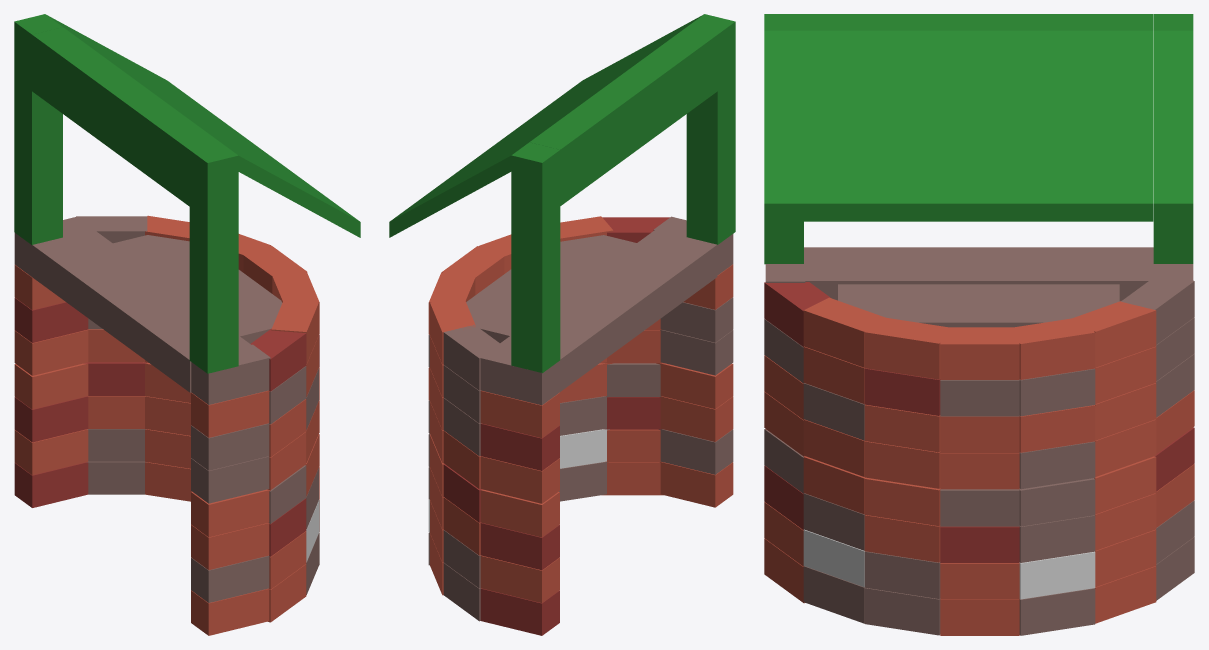
Rendered from Shop2.fbx.
The picture shows the model from 3 angles, left to right: view 1: azimuth 30°, elevation 25°; view 2: azimuth 150°, elevation 25°; view 3: azimuth 270°, elevation 25°; orthographic projection. The views are drawn at different scales.
Parts seen in each view (by area): view 1: Cube.109, Cube.107, Cube.108, Cube.106, Cube.052, Cube.070, Cube.016, Cube.061, Cube.007, Cube.043, Cube.097, Cube.053 (+29 smaller); view 2: Cube.109, Cube.107, Cube.108, Cube.053, Cube.071, Cube.017, Cube.062, Cube.098, Cube.008, Cube.044, Cube.052, Cube.016 (+30 smaller); view 3: Cube.109, Cube.107, Cube.108, Cube.099, Cube.100, Cube.101, Cube.103, Cube.102, Cube.045, Cube, Cube.009, Cube.036 (+48 smaller).
Part boxes in pixels (x1=…): Cube.109: x1=32, y1=27, x2=360, y2=373; Cube.107: x1=14, y1=217, x2=282, y2=392; Cube.108: x1=14, y1=14, x2=183, y2=244; Cube.106: x1=191, y1=344, x2=270, y2=404; Cube.052: x1=191, y1=489, x2=270, y2=537; Cube.070: x1=191, y1=423, x2=269, y2=470; Cube.016: x1=191, y1=555, x2=269, y2=602; Cube.061: x1=191, y1=456, x2=269, y2=503; Cube.007: x1=191, y1=588, x2=269, y2=635; Cube.043: x1=191, y1=523, x2=269, y2=569; Cube.097: x1=191, y1=390, x2=269, y2=437; Cube.053: x1=14, y1=363, x2=88, y2=409; Cube.109: x1=409, y1=14, x2=735, y2=244; Cube.107: x1=466, y1=230, x2=717, y2=405; Cube.108: x1=389, y1=142, x2=560, y2=373; Cube.053: x1=480, y1=489, x2=559, y2=537; Cube.071: x1=480, y1=423, x2=559, y2=470; Cube.017: x1=480, y1=555, x2=559, y2=602; Cube.062: x1=480, y1=456, x2=559, y2=503; Cube.098: x1=480, y1=390, x2=559, y2=437; Cube.008: x1=480, y1=588, x2=559, y2=635; Cube.044: x1=480, y1=523, x2=559, y2=570; Cube.052: x1=656, y1=363, x2=733, y2=409; Cube.016: x1=659, y1=429, x2=733, y2=474; Cube.109: x1=764, y1=14, x2=1153, y2=264; Cube.107: x1=804, y1=247, x2=1193, y2=327; Cube.108: x1=1153, y1=14, x2=1193, y2=263; Cube.099: x1=940, y1=327, x2=1019, y2=379; Cube.100: x1=864, y1=316, x2=947, y2=379; Cube.101: x1=1015, y1=318, x2=1095, y2=379; Cube.103: x1=803, y1=297, x2=884, y2=367; Cube.102: x1=1070, y1=301, x2=1156, y2=367; Cube.045: x1=940, y1=489, x2=1019, y2=526; Cube: x1=940, y1=599, x2=1019, y2=635; Cube.009: x1=940, y1=563, x2=1019, y2=599; Cube.036: x1=940, y1=526, x2=1019, y2=562.
Bounding box in the file's own units: 1157 × 2929 × 2172.
